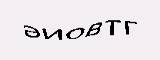З: (81, 11, 98, 39)
П: (51, 18, 61, 36)
С: (41, 17, 52, 35)
Х: (100, 14, 122, 38)
Щ: (63, 13, 84, 39)
